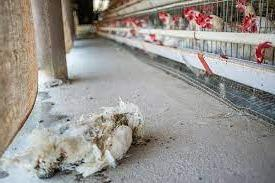AbNormal: (30, 101, 146, 175)
